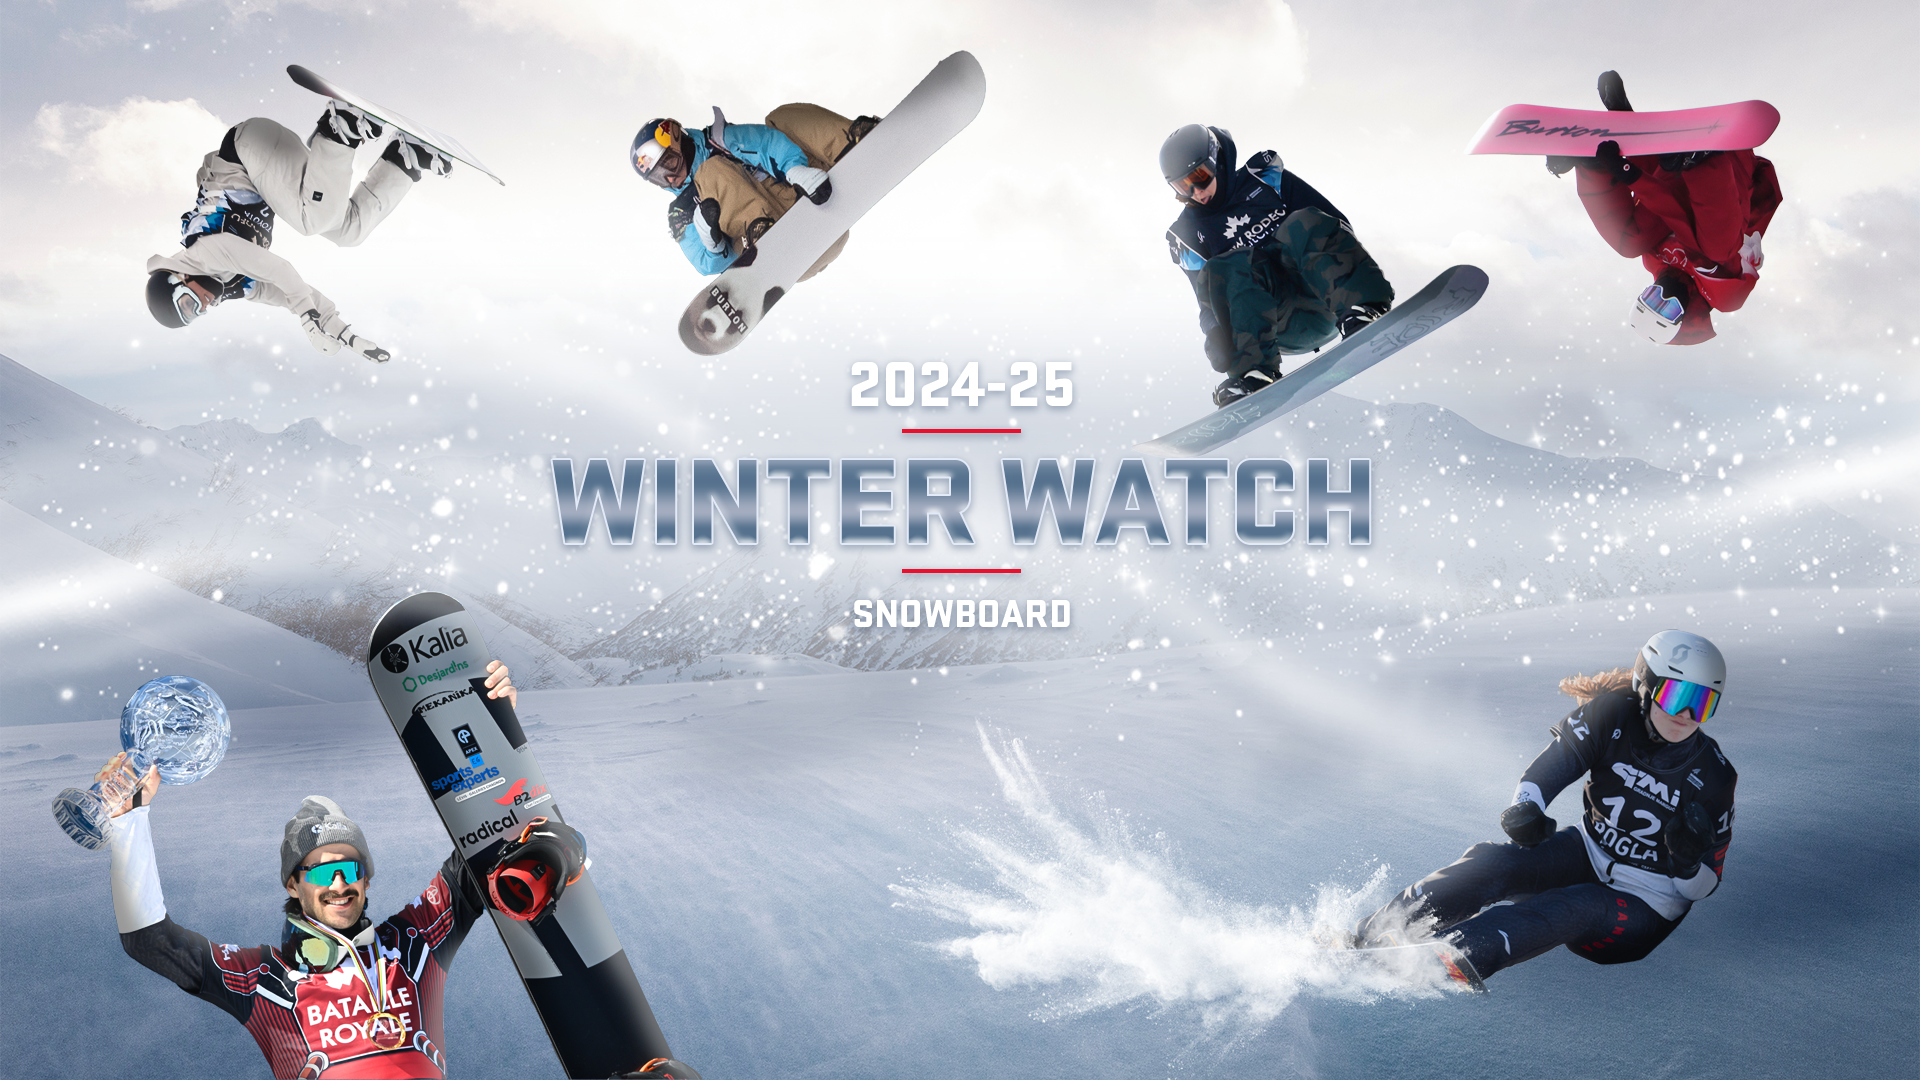snowboarder: (1300, 632, 1727, 1022), (1137, 129, 1494, 458), (628, 45, 988, 359), (138, 66, 518, 352), (1477, 74, 1797, 345)
